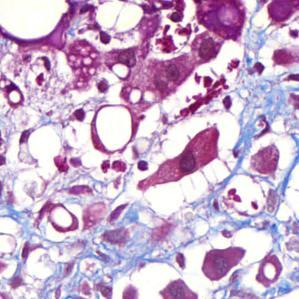steatosis: (93, 105, 137, 146)
